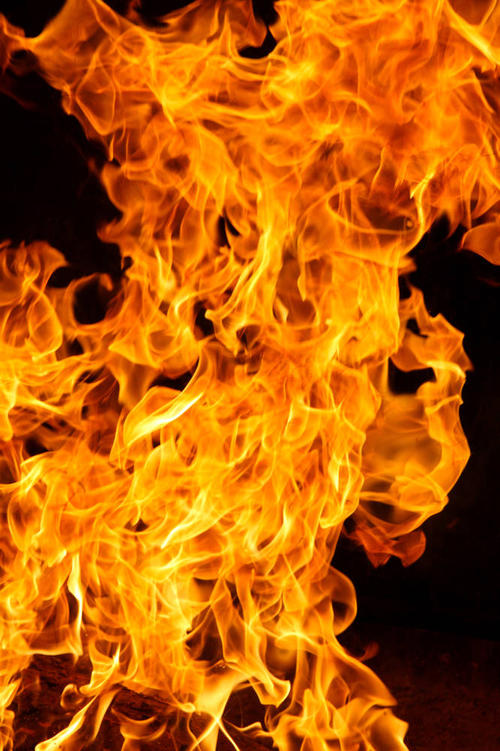fire: (63, 32, 350, 731)
